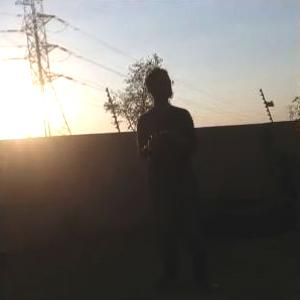follow: (133, 61, 220, 284)
